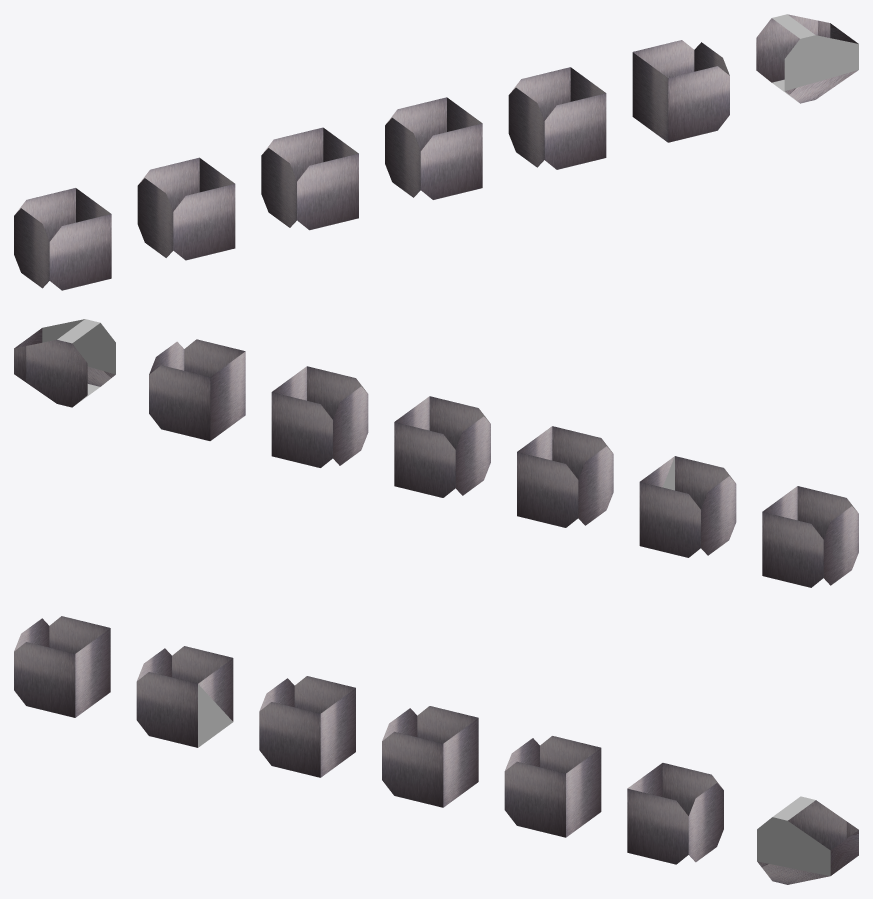
Rendered from prueba1.obj.
3 views of the same model, one above another, from view 1: azimuth 30°, elevation 25°; view 2: azimuth 150°, elevation 25°; view 3: azimuth 330°, elevation 25° (orthographic).
Size of the model in its own units: 13.2 by 1 by 1.
